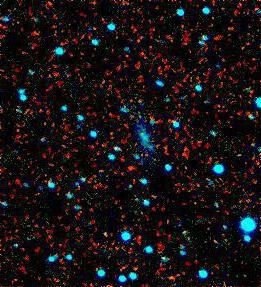star: (118, 149, 148, 179)
